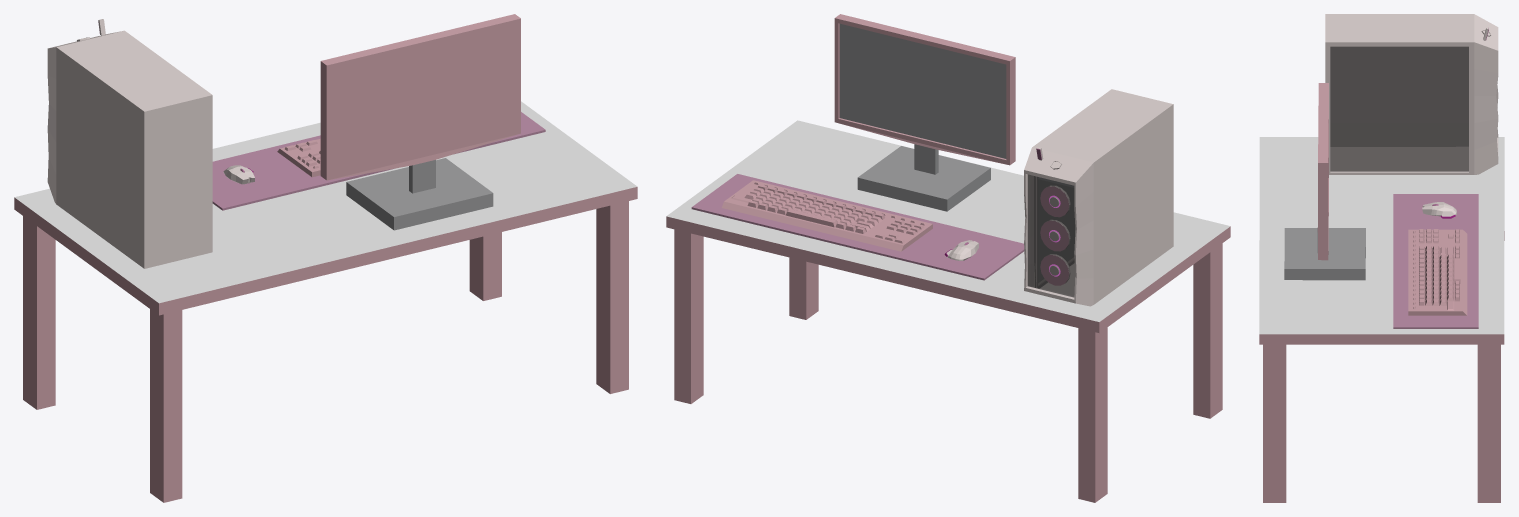
File: PC Pink.fbx
3 views of the same model, side by side, from view 1: azimuth 30°, elevation 25°; view 2: azimuth 150°, elevation 25°; view 3: azimuth 270°, elevation 25° (orthographic). The views are drawn at different scales.
Visible parts, largest first — view 1: Cube; view 2: Cube; view 3: Cube.
Part boxes in pixels (<box>): Cube: <box>14,14,637,502</box>; Cube: <box>666,14,1230,502</box>; Cube: <box>1259,14,1504,502</box>.
Size of the model in its own units: 167 by 123 by 87.48.
